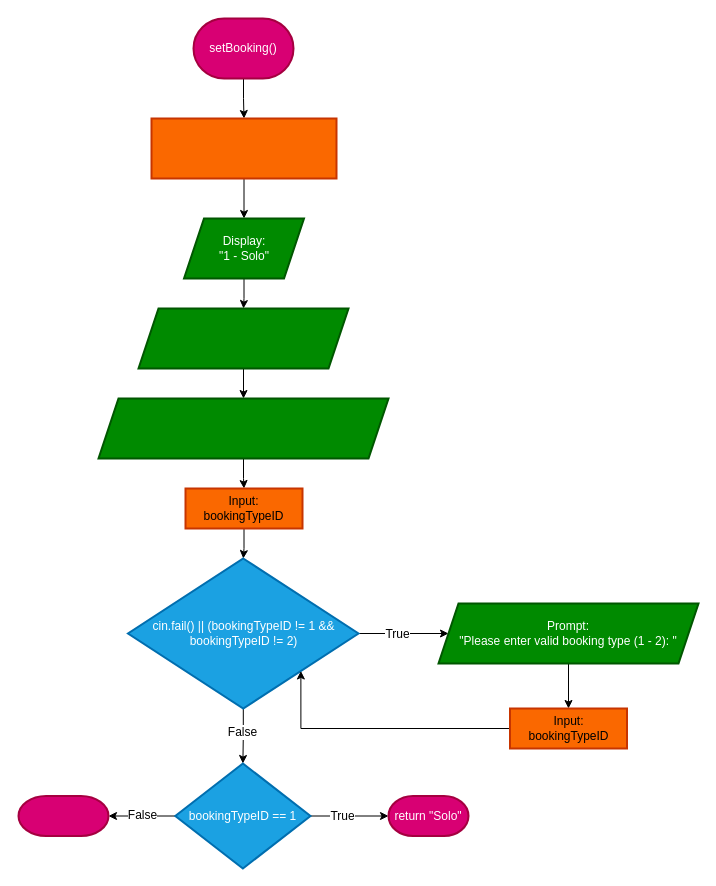
The diagram is 716 pixels wide and 886 high, and some of its shapes have lost their labels. The shapes that lost their labels are listed below. From the top down, each one's centre as x and y in pixels, then its label:
point (243, 148): Declare: bookingTypeID, bookingType
point (243, 338): Display: "2 - Group (Maximum 5)"
point (243, 428): Prompt: "Please choose your desired booking (1 - 2): "
point (63, 815): return "Group"
